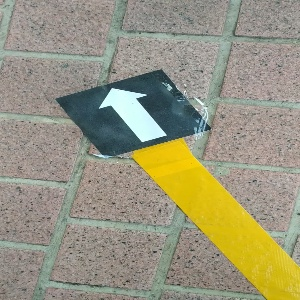straight: (56, 68, 210, 156)
